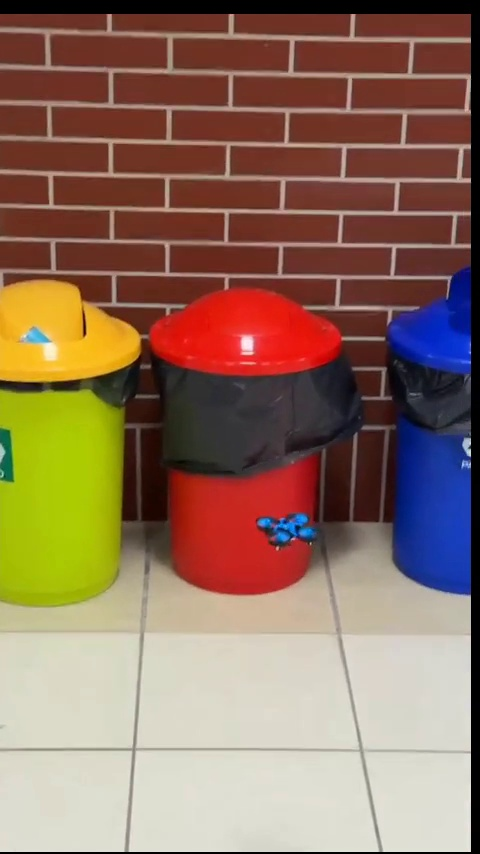drone: (256, 512, 316, 552)
